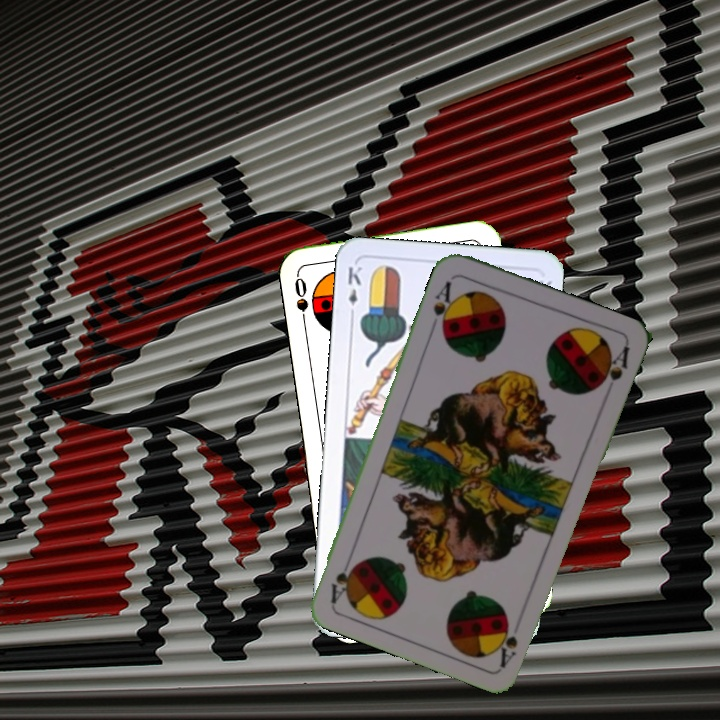EK: (343, 262, 364, 321)
SA: (429, 277, 459, 334), (492, 615, 520, 670)
SO: (290, 271, 311, 330)
